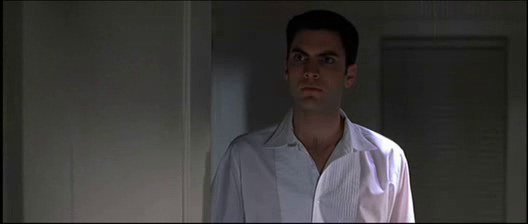face: (288, 40, 344, 112)
mcu: (1, 1, 528, 224)
person: (209, 10, 416, 222)
